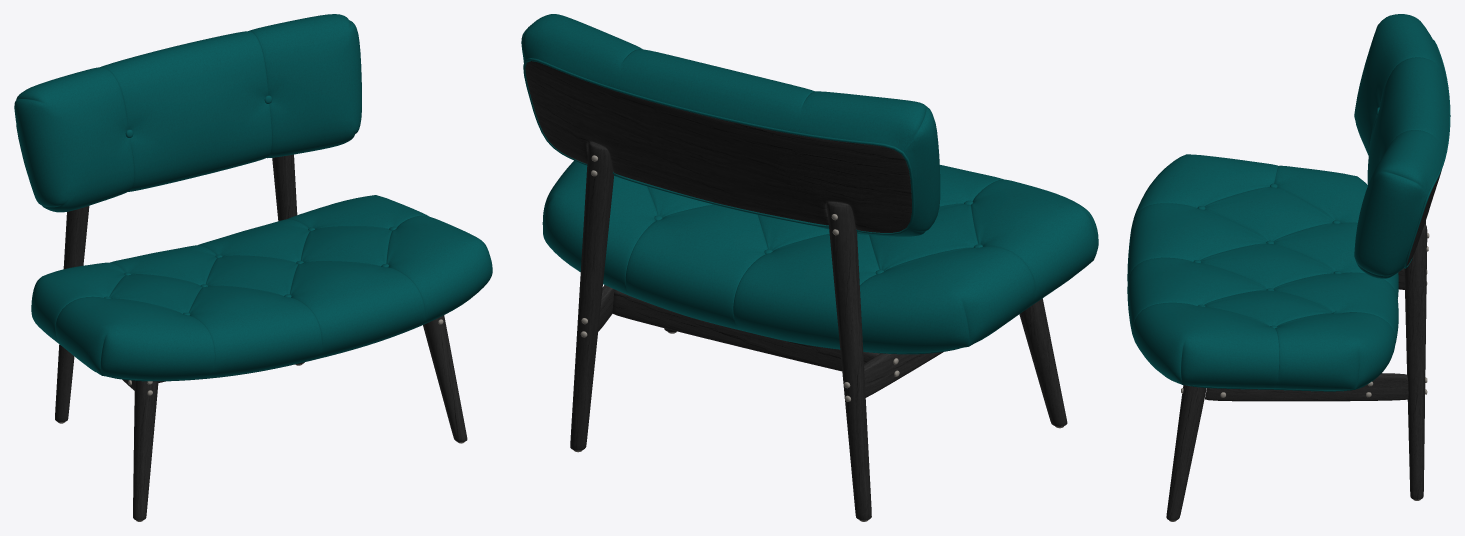
The model's file is chair-velvet-peacock.glb.
3 views of the same model, side by side, from view 1: azimuth 30°, elevation 25°; view 2: azimuth 150°, elevation 25°; view 3: azimuth 270°, elevation 25° (orthographic). The views are drawn at different scales.
Visible parts, largest first — view 1: SheenChair_fabric, SheenChair_wood; view 2: SheenChair_fabric, SheenChair_wood; view 3: SheenChair_fabric, SheenChair_wood.
Part boxes in pixels (x1,y1,x2,y2): SheenChair_fabric: [14, 14, 492, 381]; SheenChair_wood: [55, 154, 467, 520]; SheenChair_fabric: [521, 14, 1098, 354]; SheenChair_wood: [525, 61, 1067, 520]; SheenChair_fabric: [1127, 14, 1450, 391]; SheenChair_wood: [1166, 170, 1441, 520].
Size of the model in its own units: 0.8266 by 0.6863 by 0.5702.
4 materials, 3 textured.
